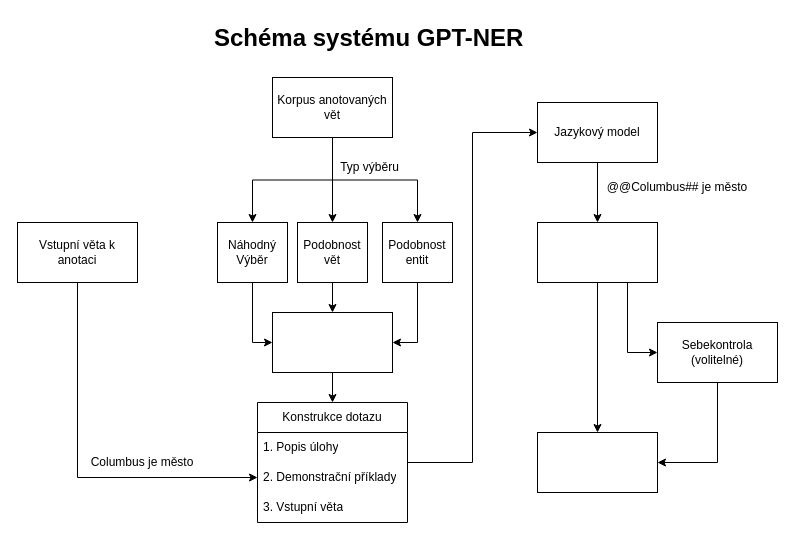
Some shapes in this 795 by 540 pixel diagram are drawn without their labels. Each missing label, with the centre of its shape:
"Demonstrační věty pro dotaz" belongs at pixel 332 342.
"Finální výstup" belongs at pixel 597 462.
"Vstupní věta s označenými entitami" belongs at pixel 597 252.
